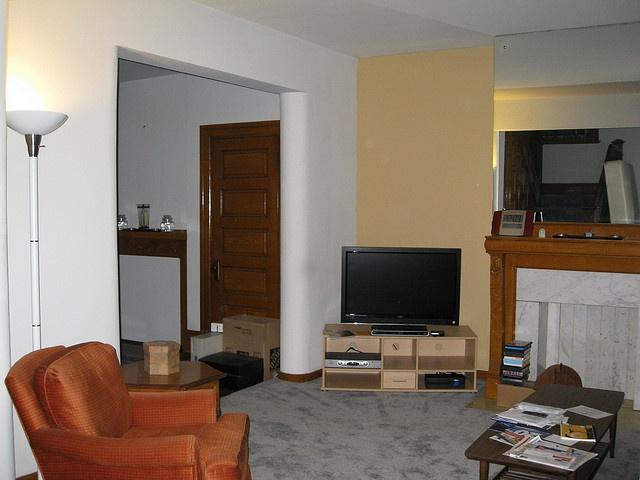AIO PC-Monitor-TV: (339, 244, 462, 335)
Meja: (463, 381, 625, 479)
